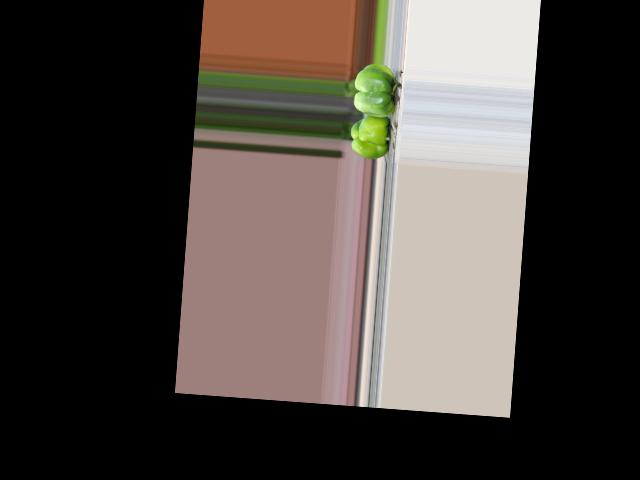bell_pepper: (347, 113, 394, 162)
